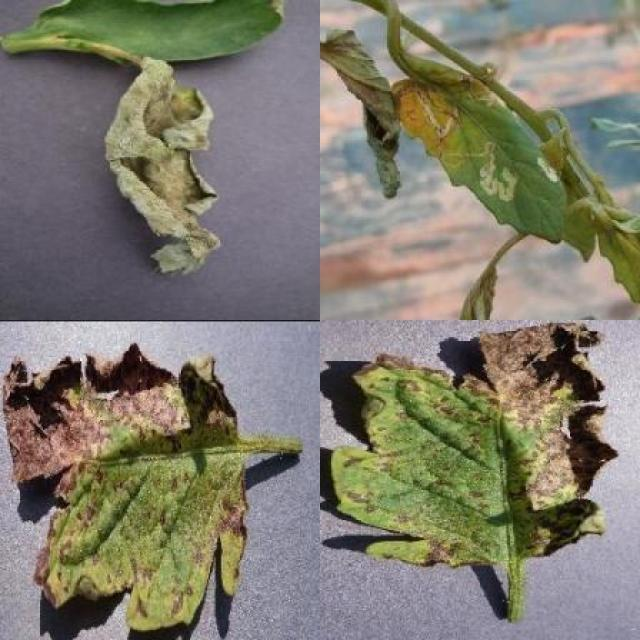Late Blight: (105, 54, 222, 286)
Leaf Miner: (392, 52, 568, 245)
Septoria: (2, 340, 248, 631), (330, 323, 621, 567)
